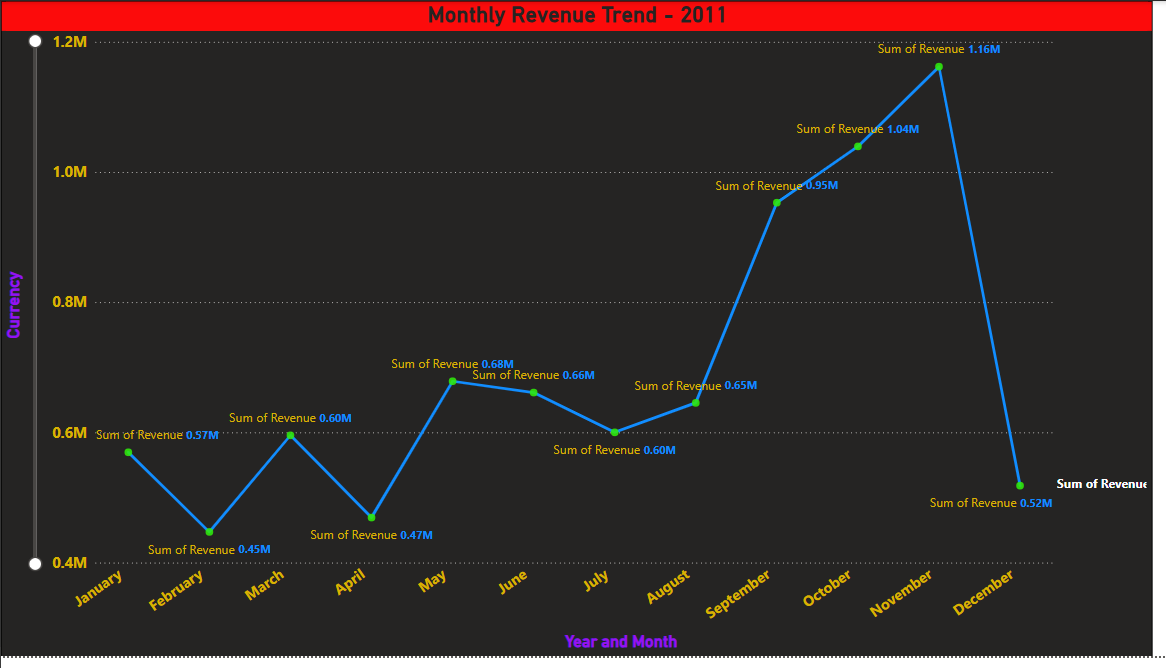

This screenshot's page, from the dashboard's own definition file:
{"tool":"powerbi","page":{"name":"Q1","canvas":[1280,720],"ordinal":0},"visuals":[{"type":"lineChart","title":"Monthly Revenue Trend - 2011","fields":{"Category":["Online Retail.InvoiceDate.Variation.Date Hierarchy.Month"],"Y":["Sum(Online Retail.Revenue)"]},"box":[0,0,1264,720],"z":0}]}

Visuals, with their boxes in screenshot pixels (x1, y1, x2, y2), scaled from the page's 1280x720 canvas onto the 1166x668 screenshot:
"Monthly Revenue Trend - 2011" lineChart: <box>0,0,1151,667</box>
